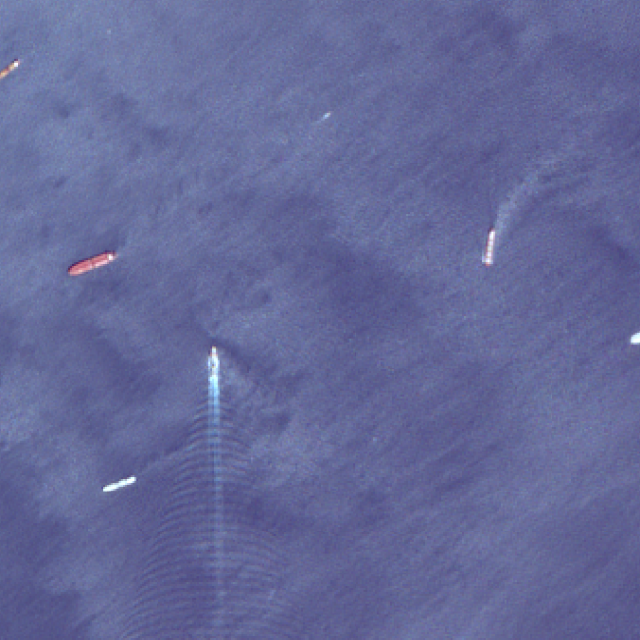wake: (144, 331, 287, 619)
